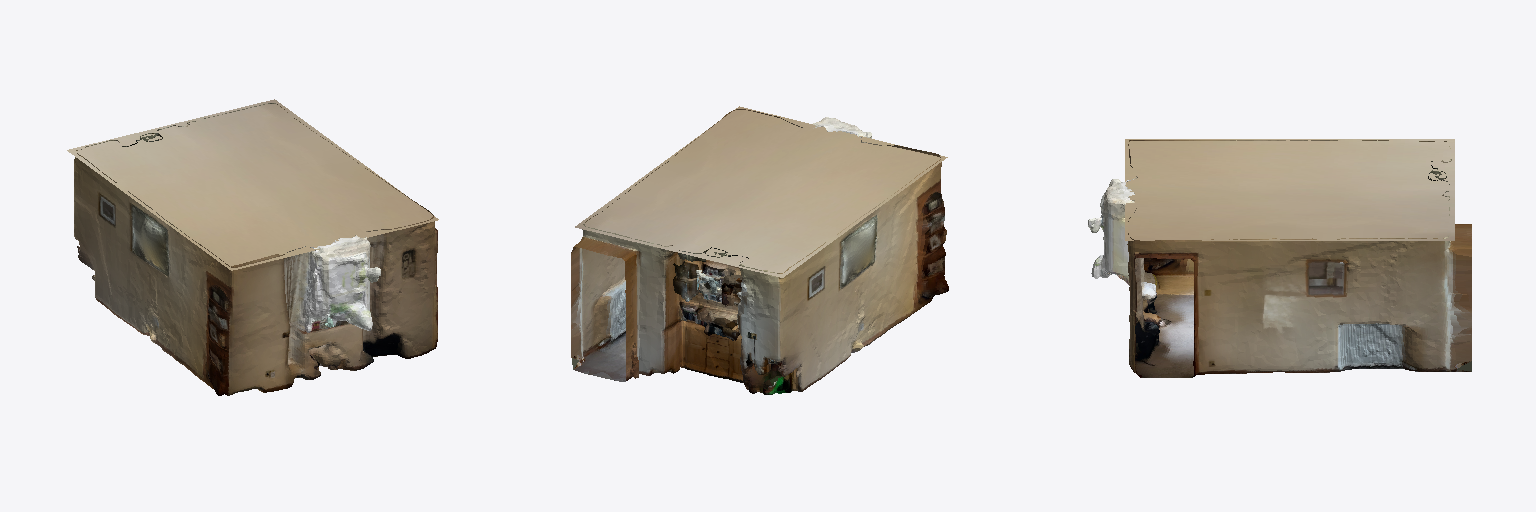
3 views of the same model, side by side, from view 1: azimuth 30°, elevation 25°; view 2: azimuth 150°, elevation 25°; view 3: azimuth 270°, elevation 25° (orthographic).
Parts seen in each view (by area): view 1: Main_room; view 2: Main_room; view 3: Main_room.
Boxes of the visible parts, x1,y1,x2,y2 form: Main_room: [67, 99, 438, 395]; Main_room: [571, 106, 948, 394]; Main_room: [1088, 139, 1471, 377].
Size of the model in its own units: 3.58 by 2.2 by 5.43.
Materials: 1 (1 with a texture image).